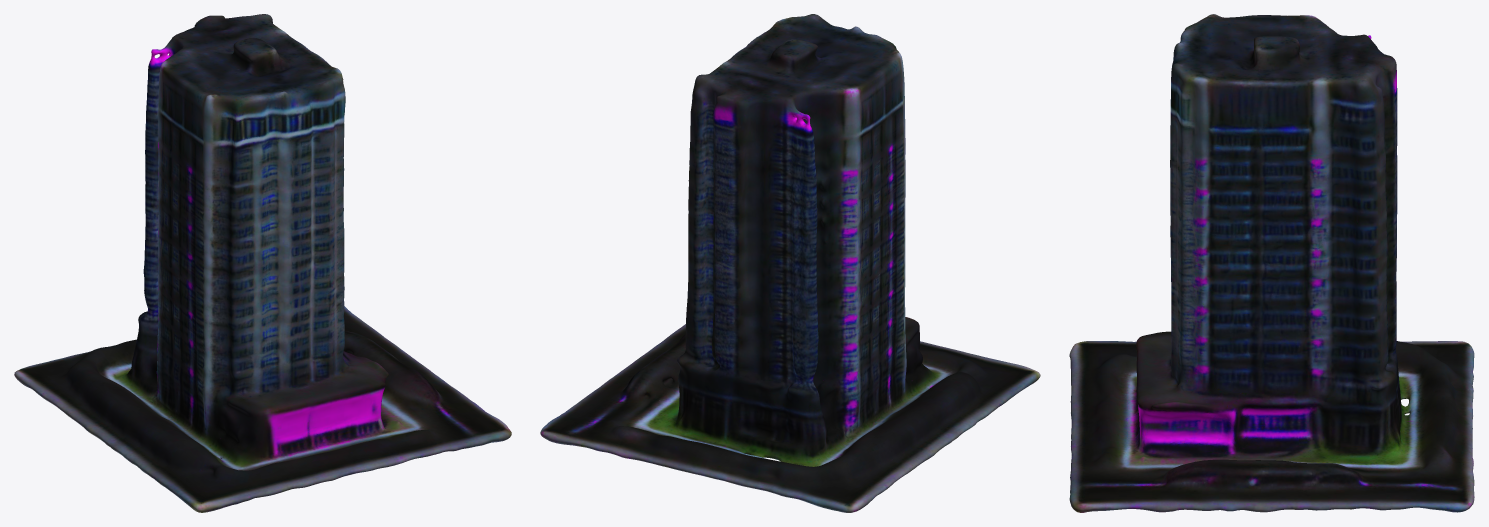
The model's file is 2e2447fa81dc_a_tall__minimalist_futuristic_sk.glb.
3 views of the same model, side by side, from view 1: azimuth 30°, elevation 25°; view 2: azimuth 150°, elevation 25°; view 3: azimuth 270°, elevation 25° (orthographic). The views are drawn at different scales.
Visible parts, largest first — view 1: geometry_0; view 2: geometry_0; view 3: geometry_0.
Part boxes in pixels (box(x1,y1,x2,y2)): geometry_0: box(14, 14, 511, 512); geometry_0: box(540, 14, 1040, 512); geometry_0: box(1069, 14, 1474, 512).
Bounding box in the file's own units: 0.3422 × 0.3739 × 0.3536.
1 material, 1 textured.
